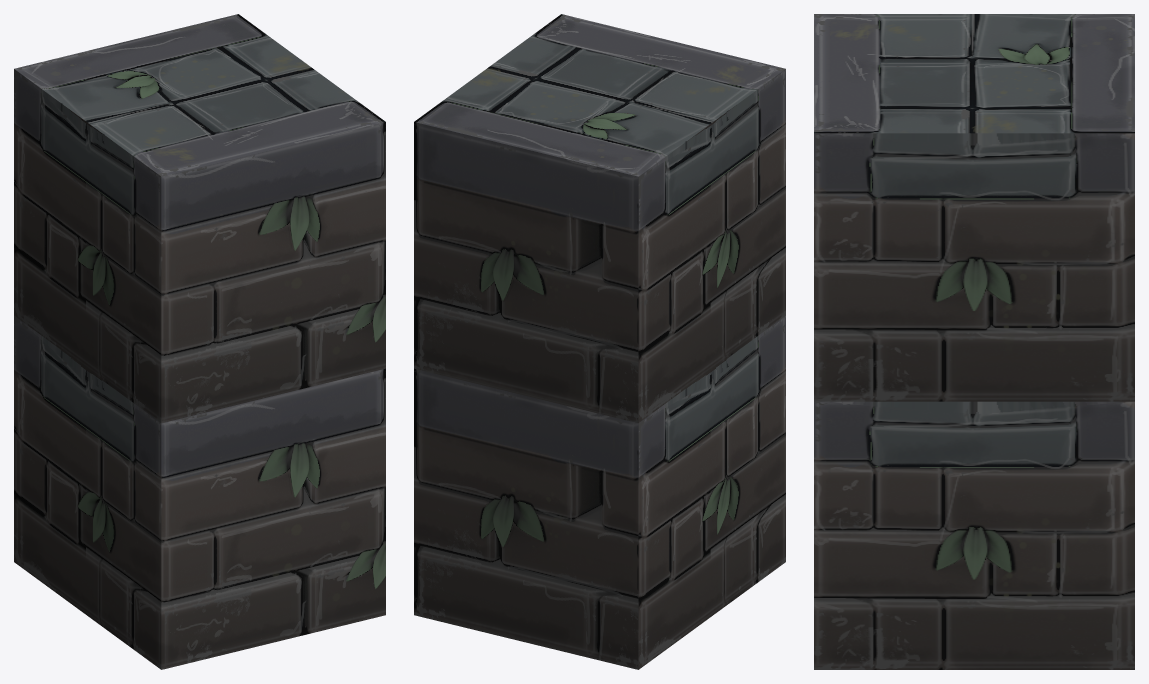
The model's file is platform_01_vert.FBX.
The picture shows the model from 3 angles, left to right: view 1: azimuth 30°, elevation 25°; view 2: azimuth 150°, elevation 25°; view 3: azimuth 270°, elevation 25°; orthographic projection. The views are drawn at different scales.
Visible parts, largest first — view 1: platform_01; view 2: platform_01; view 3: platform_01.
Boxes of the visible parts, box(x1,y1,x2,y2) form: platform_01: box(14, 14, 385, 669); platform_01: box(414, 14, 785, 669); platform_01: box(814, 14, 1134, 669).
Size of the model in its own units: 71.79 by 151 by 81.64.
1 material, 1 textured.
